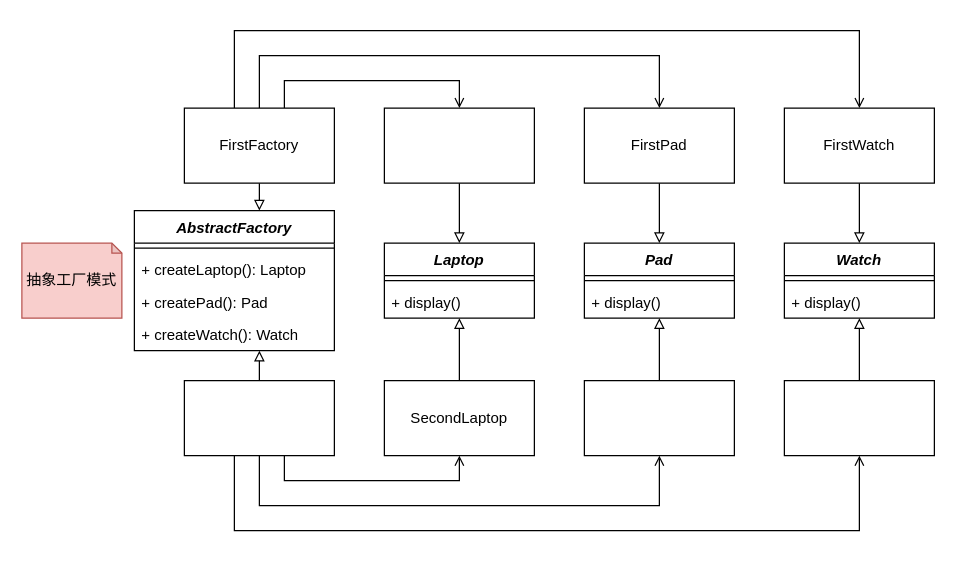
Some shapes in this 956 by 563 pixel diagram are drawn without their labels. The shapes that lost their labels are listed below. From the top down, each one's centre as x and y in pixels, then its label:
the point at 458,145: FirstLaptop
the point at 258,417: SecondFactory
the point at 658,417: SecondPad
the point at 858,417: SecondWatch
